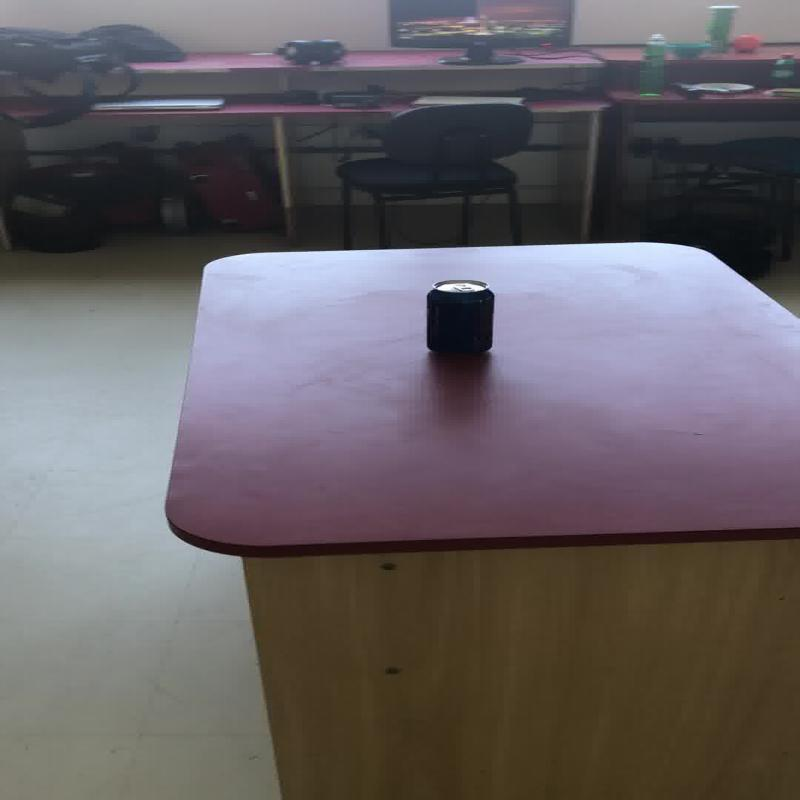tonic: (423, 278, 494, 353), (636, 32, 665, 96), (702, 4, 739, 53), (766, 51, 798, 88)
